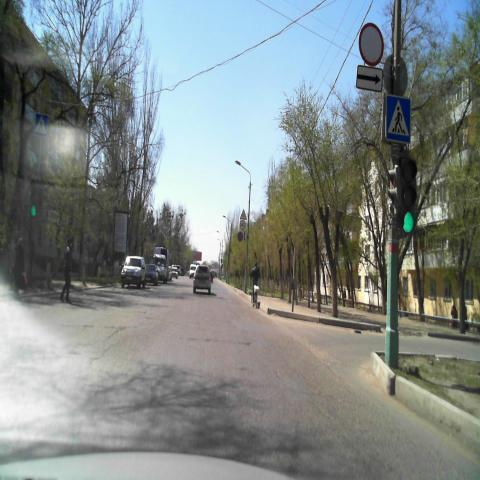3_2: (358, 22, 384, 66)
8_3_1: (356, 64, 382, 92)
